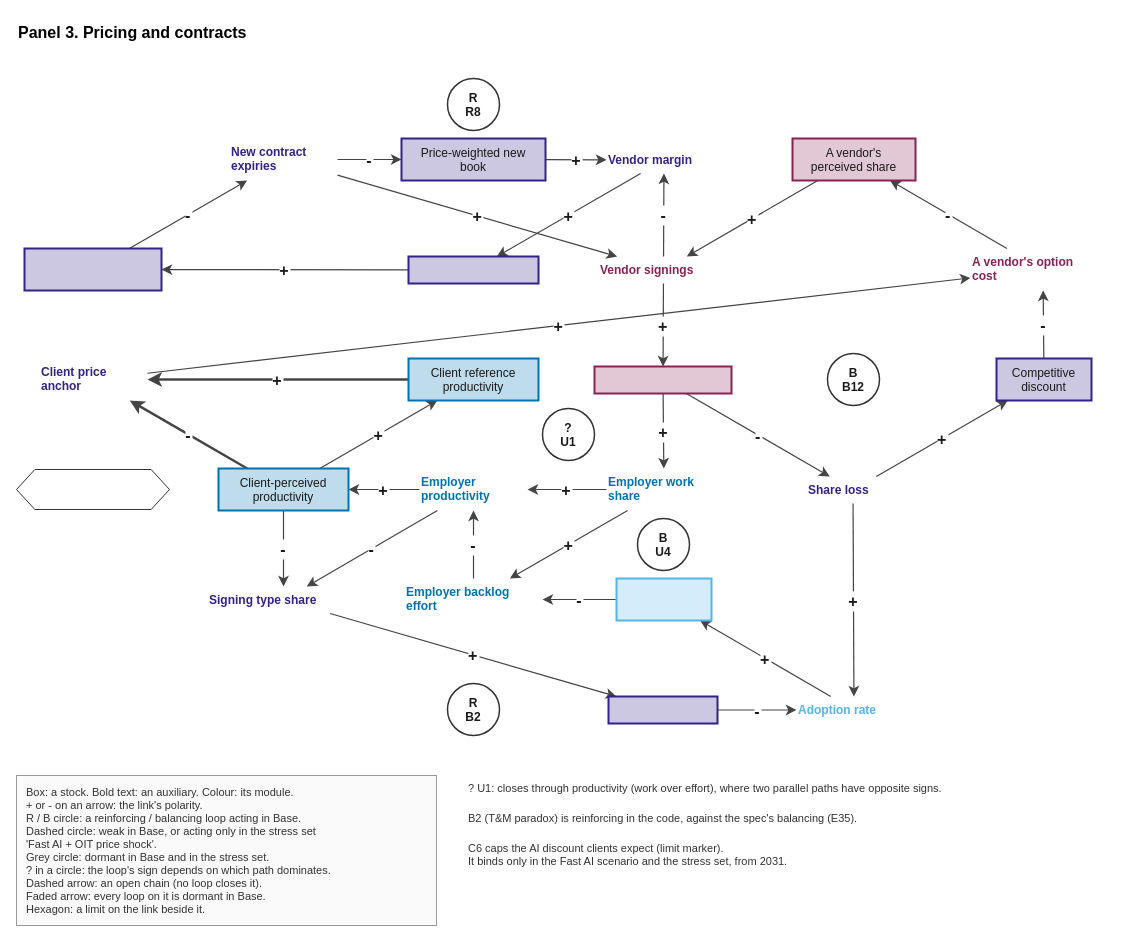
Some shapes in this 1133 by 942 pixel diagram are drawn without their labels. The shapes that lost their labels are listed below. From the top down, each one's box as (x1, y1, x2, y2) in pixels, then its label:
(23, 247, 162, 291): Duration-weighted new book
(407, 255, 539, 284): Vendor viability
(593, 365, 732, 394): Vendor work share
(16, 468, 170, 510): limit: AI-discount ceiling (C6)
(615, 577, 712, 621): Delivery AI adoption
(607, 695, 718, 724): New contracts
